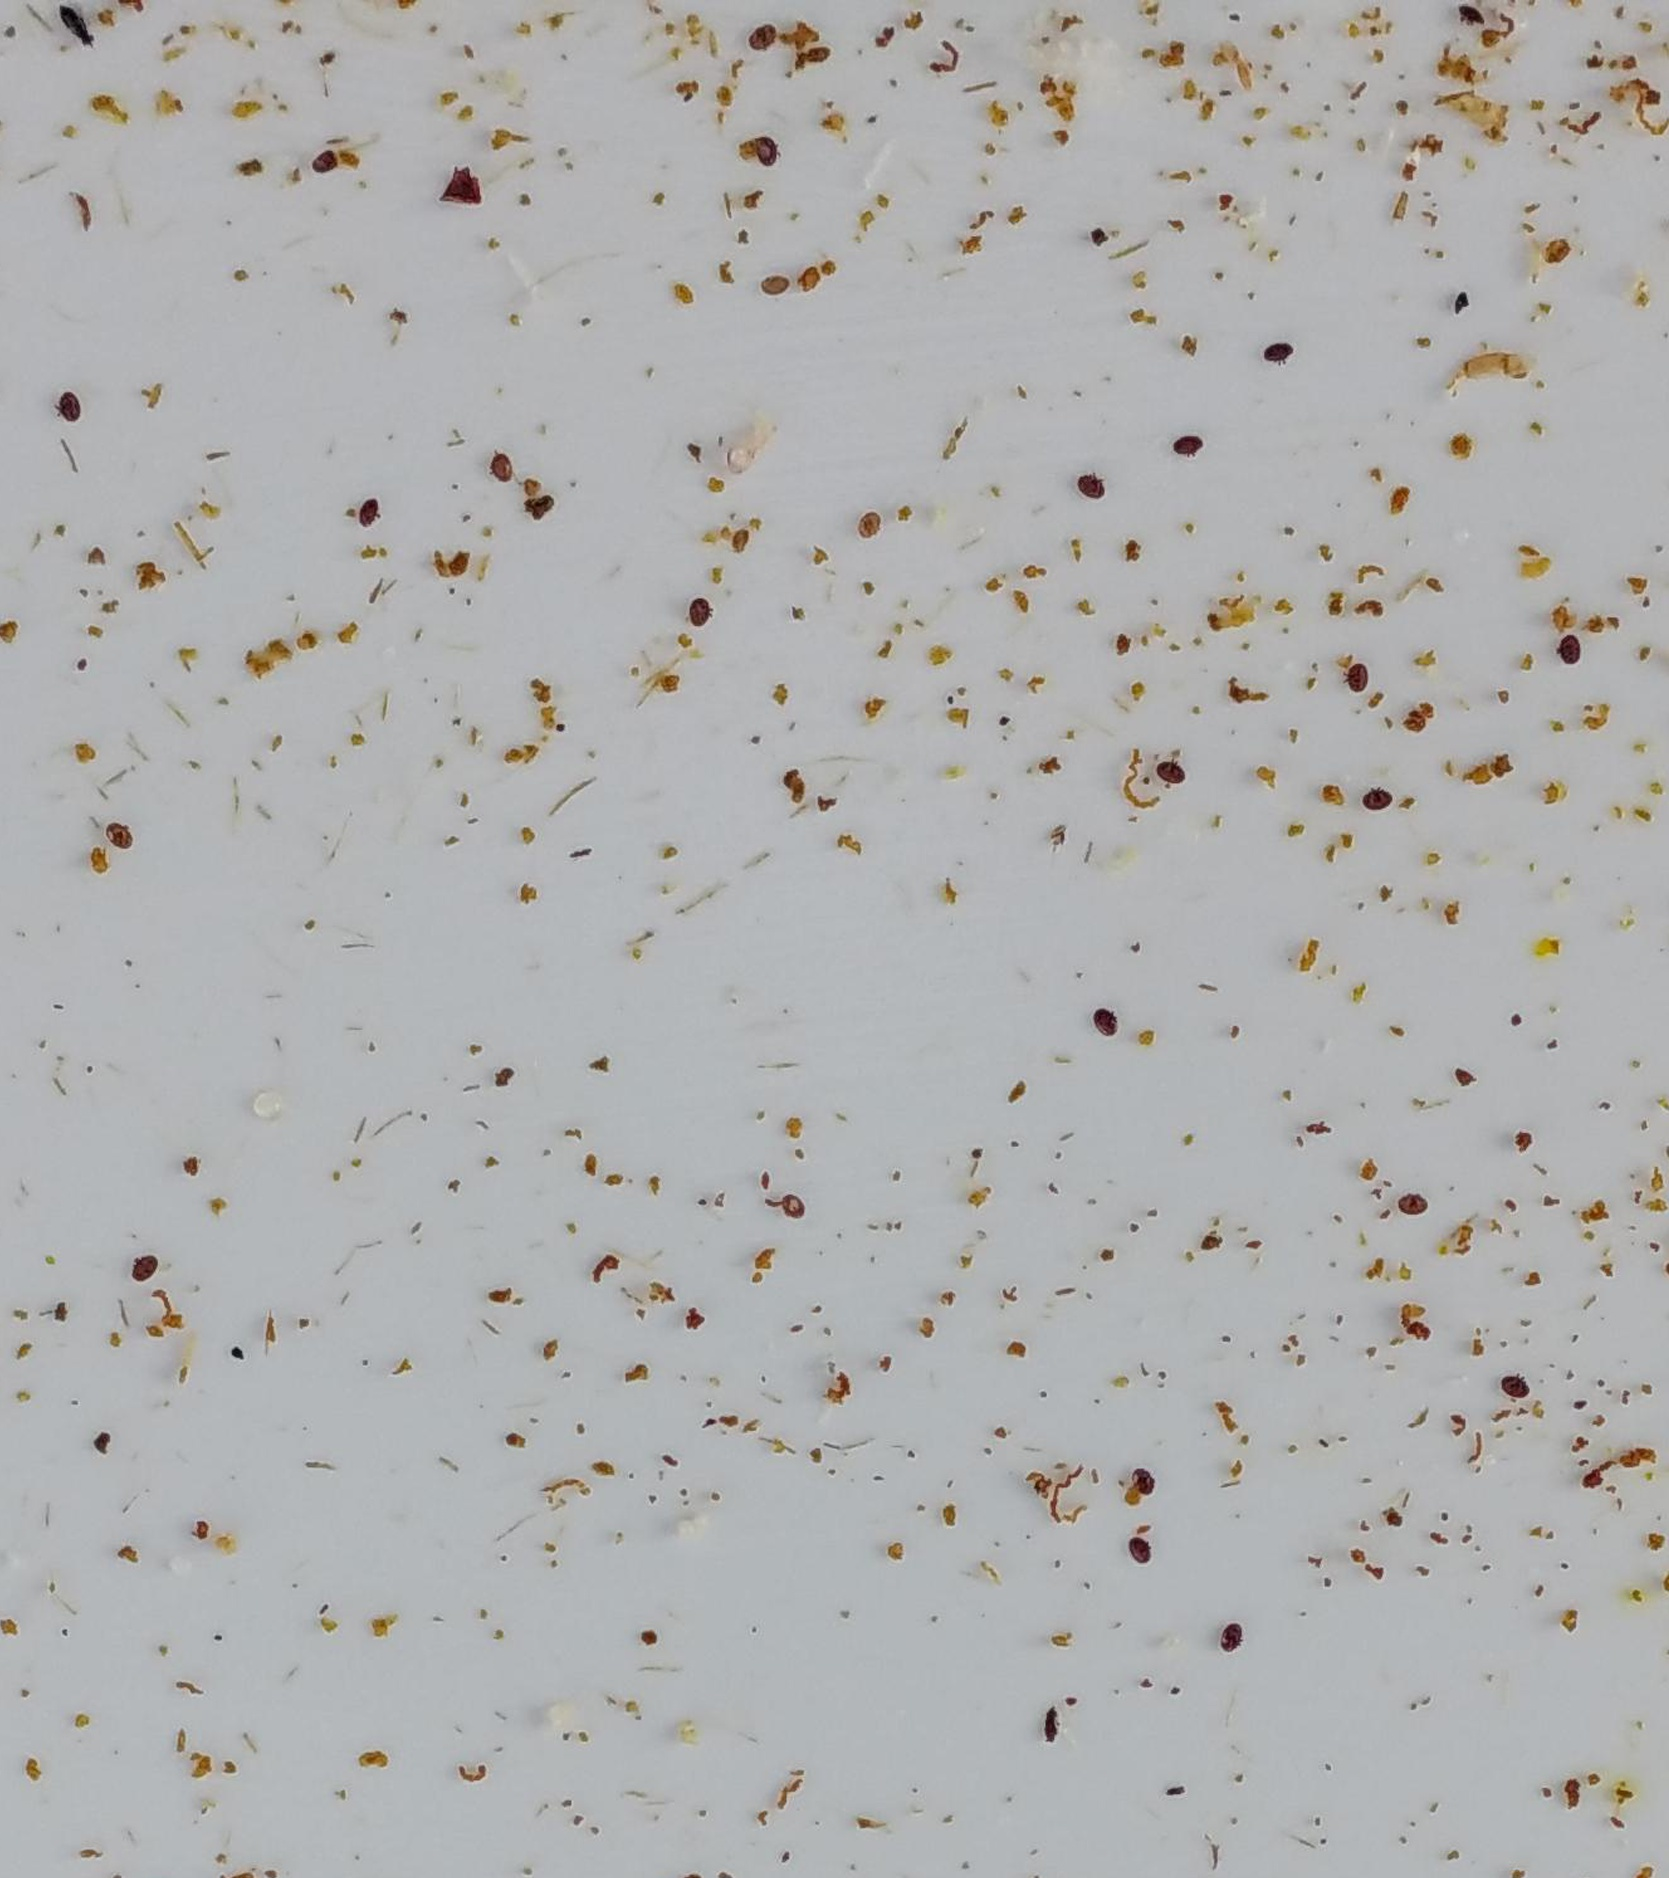Varroa: (768, 1182, 818, 1226), (1123, 1532, 1160, 1574), (851, 494, 888, 536), (681, 596, 719, 635), (1564, 622, 1601, 660), (52, 388, 87, 428), (1495, 1364, 1532, 1401), (760, 259, 797, 296), (1091, 1002, 1126, 1040), (1337, 660, 1373, 697), (1395, 1185, 1431, 1222), (351, 491, 387, 528), (749, 26, 785, 61), (1170, 428, 1203, 465), (1128, 1461, 1162, 1498), (1548, 633, 1580, 672), (1261, 333, 1295, 369), (751, 137, 785, 172), (1075, 465, 1108, 501), (485, 454, 519, 490), (527, 482, 557, 520), (1210, 1617, 1244, 1651), (311, 145, 345, 179), (103, 828, 135, 863), (1155, 755, 1187, 789), (126, 1248, 159, 1279), (1355, 789, 1385, 820)
